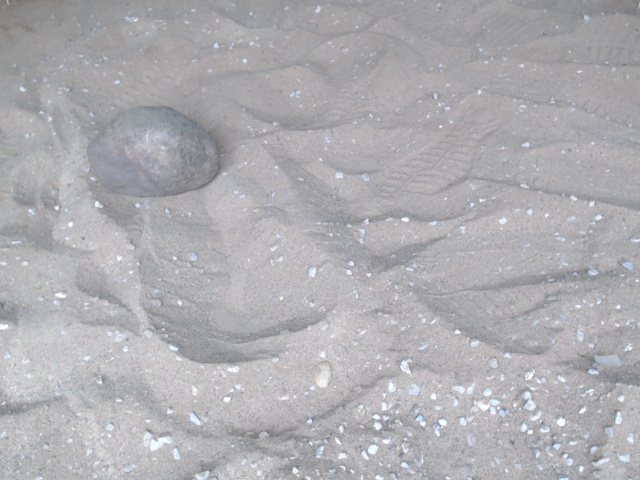rock: (80, 98, 226, 204)
